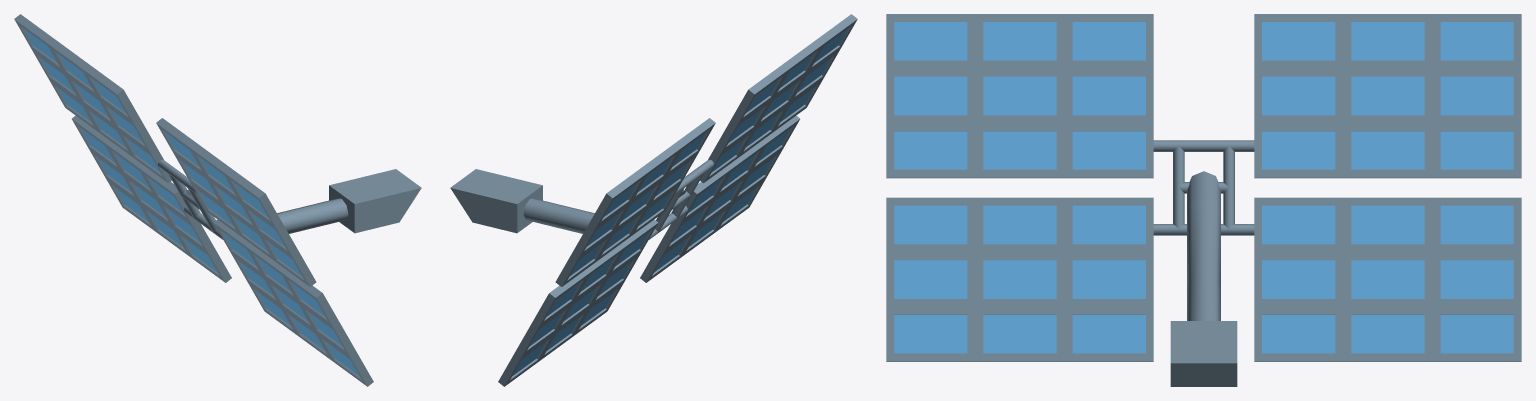
The model's file is Solar_Panel.fbx.
The picture shows the model from 3 angles, left to right: view 1: azimuth 30°, elevation 25°; view 2: azimuth 150°, elevation 25°; view 3: azimuth 270°, elevation 25°; orthographic projection. The views are drawn at different scales.
Parts seen in each view (by area): view 1: Cube; view 2: Cube; view 3: Cube.
Part boxes in pixels (left/top/right/bottom): Cube: left=14, top=14, right=421, bottom=386; Cube: left=450, top=14, right=857, bottom=386; Cube: left=886, top=14, right=1521, bottom=386.
Size of the model in its own units: 24.37 by 18.69 by 38.
